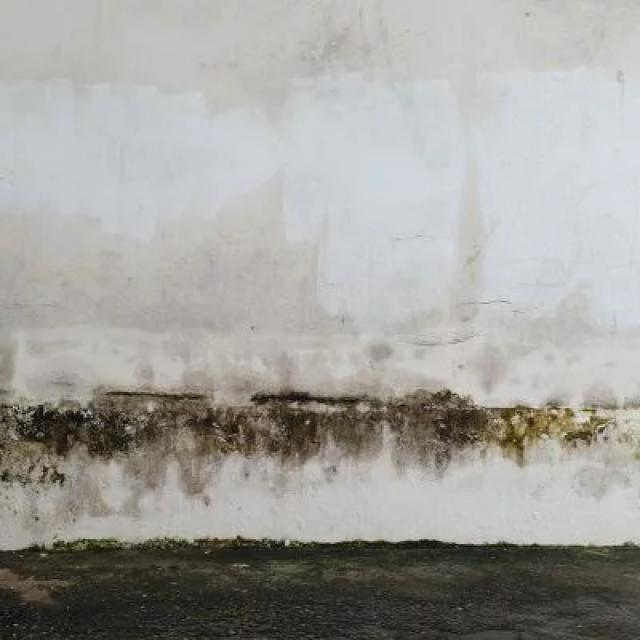dampness: (4, 378, 639, 518)
